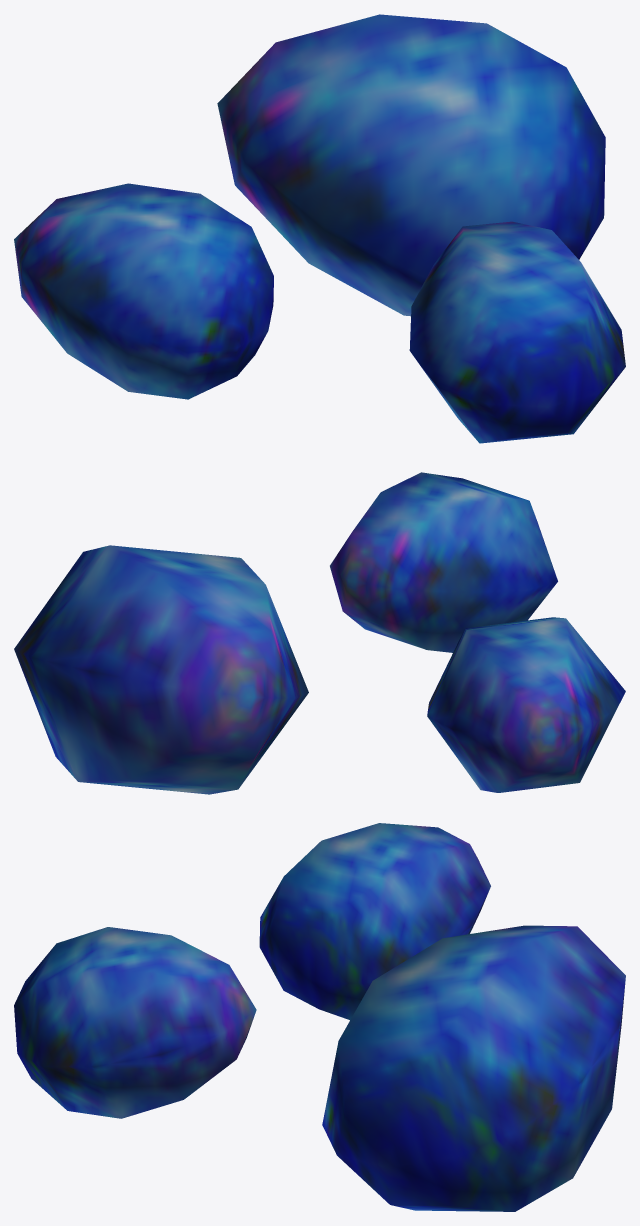
File: Sea_xiaoshitou03.FBX
3 views of the same model, one above another, from view 1: azimuth 30°, elevation 25°; view 2: azimuth 150°, elevation 25°; view 3: azimuth 270°, elevation 25° (orthographic). The views are drawn at different scales.
Visible parts, largest first — view 1: 对象001; view 2: 对象001; view 3: 对象001.
Part boxes in pixels (x1=…): 对象001: x1=14, y1=14, x2=625, y2=443; 对象001: x1=14, y1=472, x2=625, y2=794; 对象001: x1=14, y1=823, x2=625, y2=1211.
Size of the model in its own units: 17.23 by 7.63 by 16.98.
